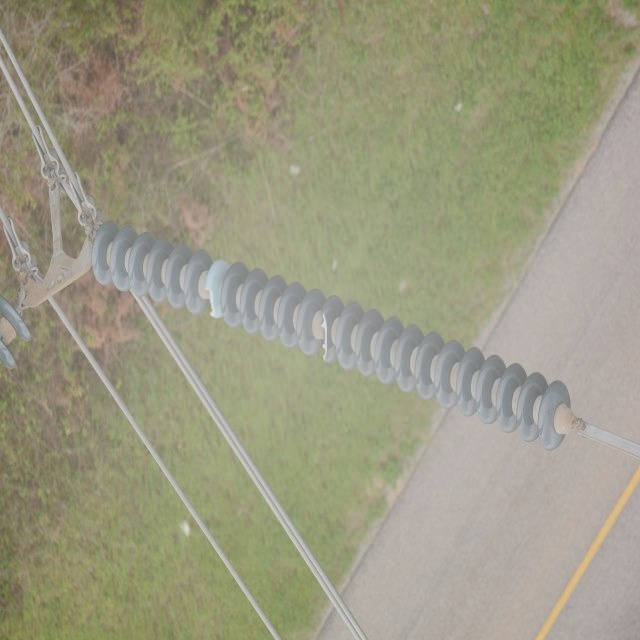broken: (320, 304, 329, 362), (204, 282, 216, 320)
insulator: (91, 218, 569, 453), (0, 290, 33, 369)
